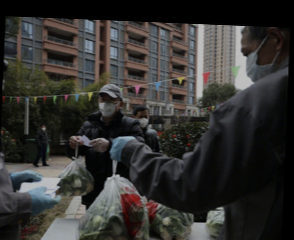with_mask: (239, 44, 274, 82), (97, 95, 118, 119), (135, 114, 150, 129), (40, 125, 47, 132)
